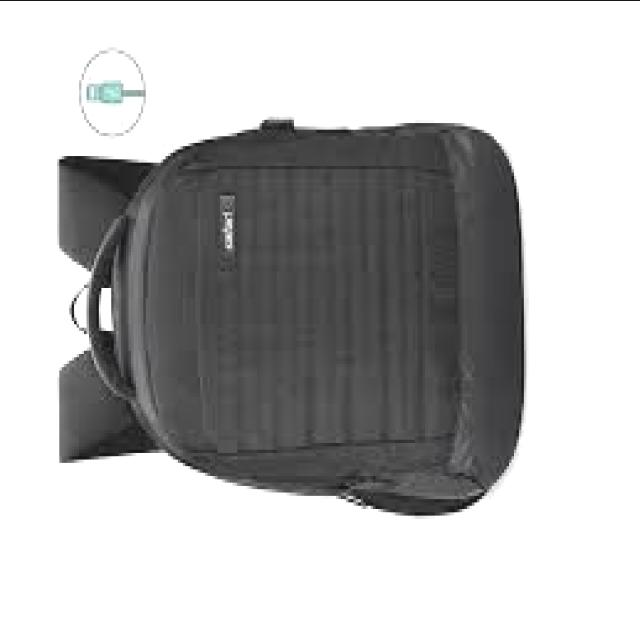backpack: (58, 120, 525, 519)
